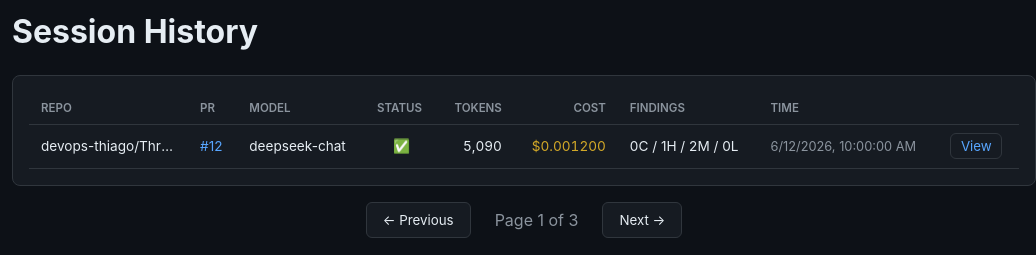
it: SessionsPage › pages forward when the total exceeds one page
The image size is (1036, 255).
Expected: the text "Page 1 of 3" is shown, [495,210,578,230]
Expected: the button "← Previous" is disabled, [366,202,471,238]
Click the button "Next →". click: (642, 220)
box: [602,202,682,238]
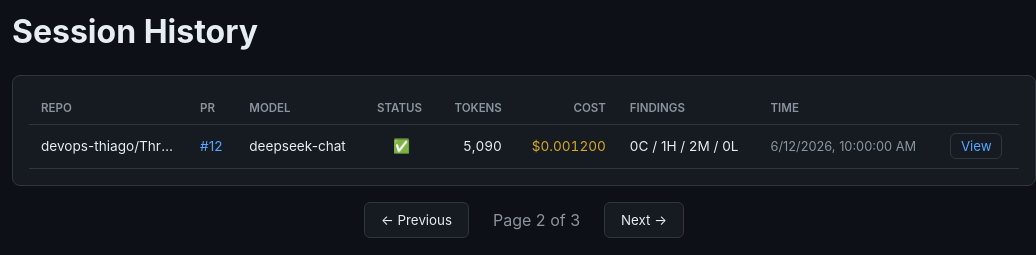
Now the text "Page 2 of 3" is shown, box [493,210,580,230]
